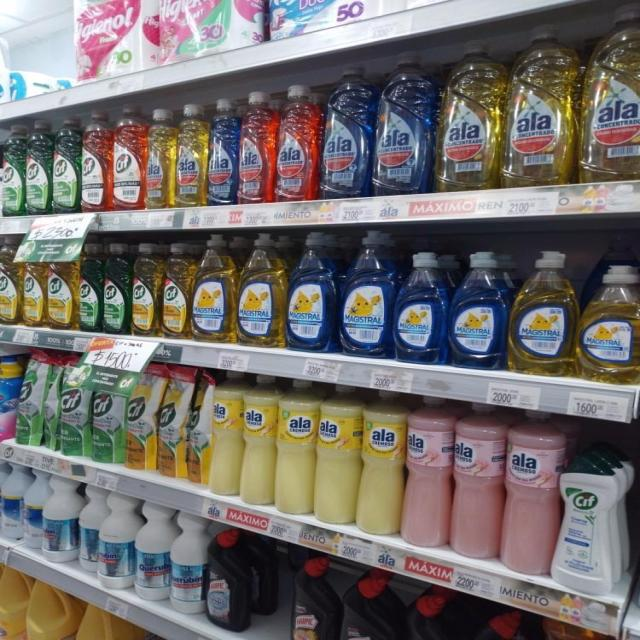ala_conc_amarillo: (506, 23, 578, 188), (581, 1, 640, 183), (439, 39, 504, 192), (176, 102, 207, 208), (147, 106, 176, 210)
ala_conc_azul: (375, 46, 435, 196), (322, 61, 373, 199), (208, 97, 238, 206)
ala_conc_rojo: (276, 83, 319, 202), (239, 89, 275, 204)
ala_crem_amarillo: (359, 389, 403, 537), (315, 383, 359, 527), (276, 377, 315, 516), (242, 373, 276, 508), (210, 371, 241, 497)
ala_crem_rosado: (502, 408, 560, 576), (452, 400, 502, 560), (404, 394, 451, 549)
cif_conc_bot_amarilla: (162, 241, 190, 339), (132, 242, 160, 338), (48, 238, 76, 330), (22, 240, 46, 328), (0, 237, 20, 325)
cif_conc_botella_roja: (112, 104, 145, 211), (81, 108, 111, 213)
cif_conc_botella_verde: (52, 116, 79, 214), (103, 242, 130, 335), (26, 120, 51, 215), (77, 241, 102, 333), (2, 123, 24, 217)
cif_conc_sachet_amarillo: (126, 362, 156, 472), (158, 364, 186, 480)
cif_conc_sachet_verde: (92, 359, 123, 465), (59, 354, 89, 458)
magistral_con_amarillo: (578, 231, 640, 384), (511, 249, 576, 377), (237, 232, 285, 348), (192, 233, 236, 344)
magistral_con_azul: (450, 250, 508, 370), (340, 229, 392, 358), (287, 230, 336, 352), (394, 250, 446, 364)
